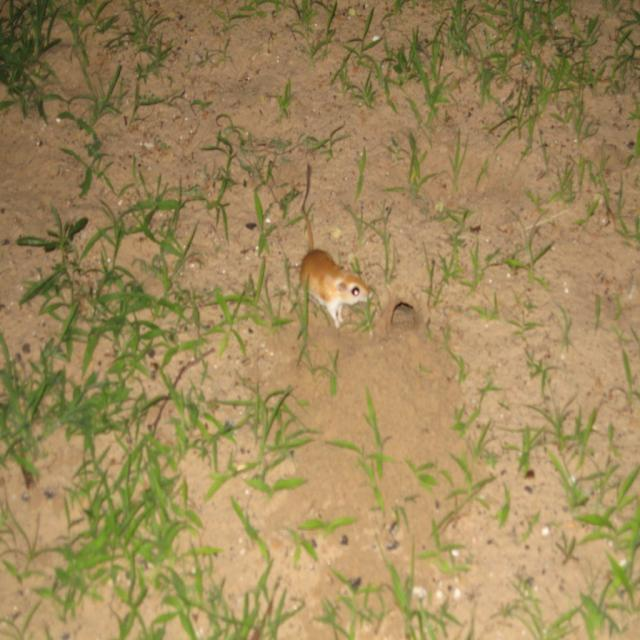rat: (300, 170, 369, 324)
